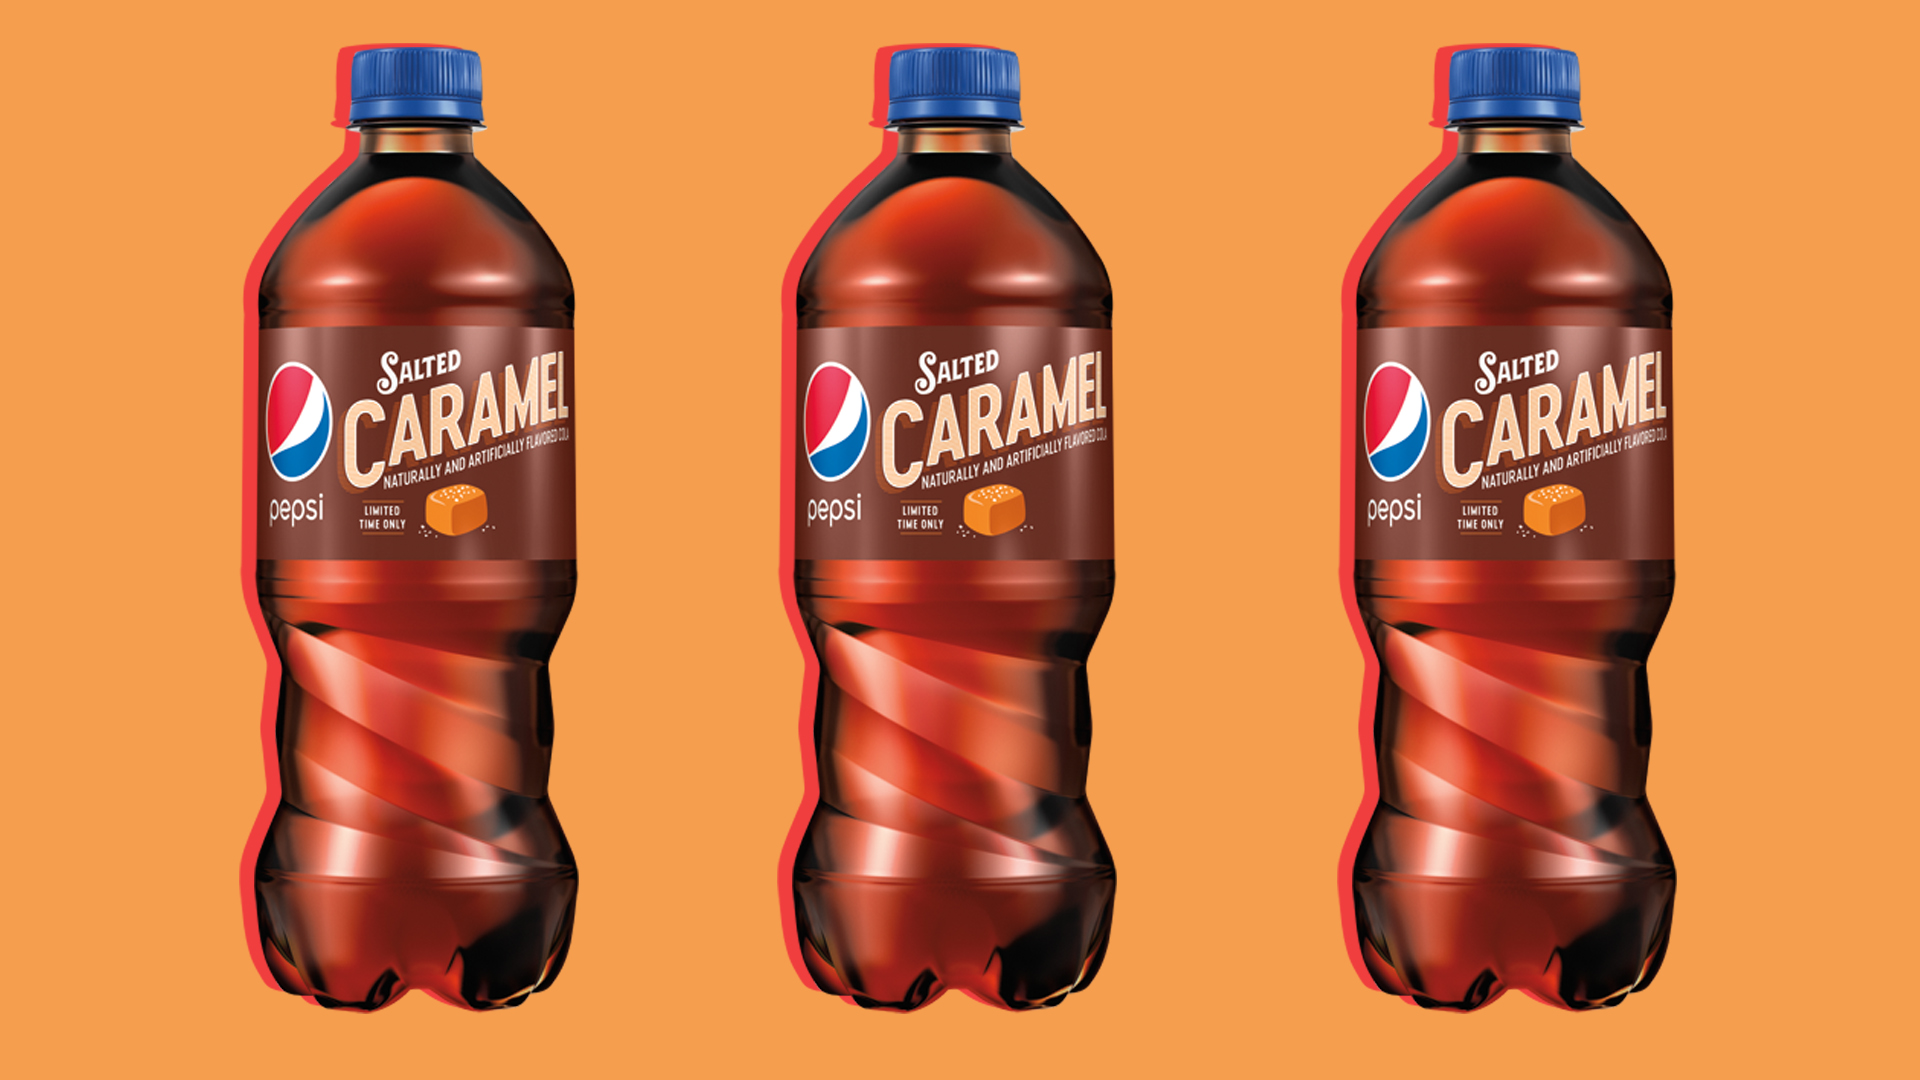pepsi: (262, 360, 332, 480), (1366, 361, 1428, 483), (800, 363, 866, 475)
